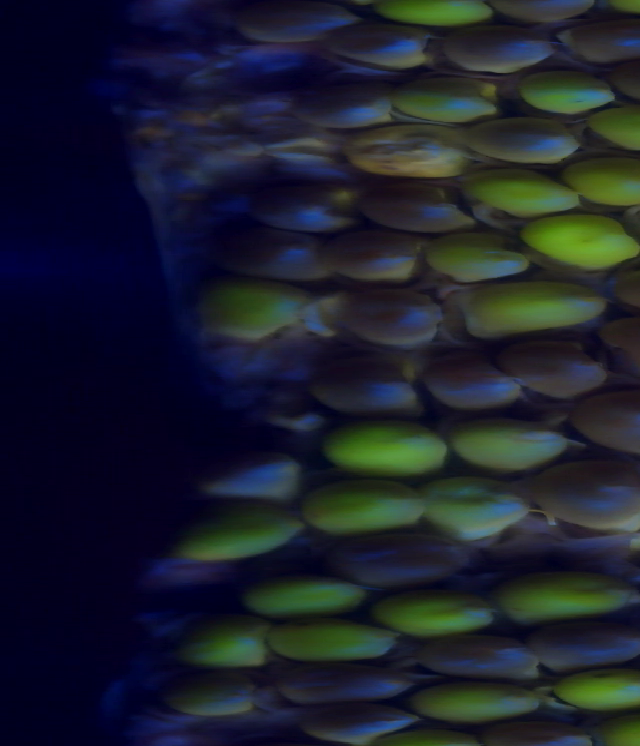fluorescent: (329, 416, 458, 481), (470, 279, 616, 334), (180, 500, 303, 563), (422, 469, 525, 539), (487, 573, 640, 617), (455, 421, 567, 476), (522, 213, 640, 263), (347, 134, 473, 178), (316, 484, 419, 537), (241, 573, 371, 614), (215, 279, 302, 339), (273, 614, 405, 653), (421, 681, 550, 720), (386, 592, 486, 642), (177, 621, 273, 671), (386, 81, 502, 121), (470, 173, 576, 216), (526, 68, 616, 117), (434, 231, 528, 276), (163, 675, 248, 718), (576, 158, 640, 213), (551, 672, 640, 711), (377, 1, 493, 30), (589, 97, 640, 153), (596, 716, 640, 746)
nonfluorescent: (313, 358, 429, 423), (528, 462, 640, 526), (229, 218, 338, 278), (363, 173, 474, 231), (351, 531, 466, 585), (499, 340, 599, 401), (466, 114, 590, 163), (539, 610, 640, 668), (345, 281, 445, 339), (419, 630, 537, 678), (287, 79, 402, 126), (279, 660, 418, 698), (444, 31, 563, 75), (233, 1, 357, 42), (331, 20, 438, 66), (429, 353, 512, 411), (255, 172, 358, 217), (339, 234, 424, 288), (582, 389, 640, 459), (303, 702, 412, 733), (570, 11, 640, 52), (605, 320, 640, 375)
